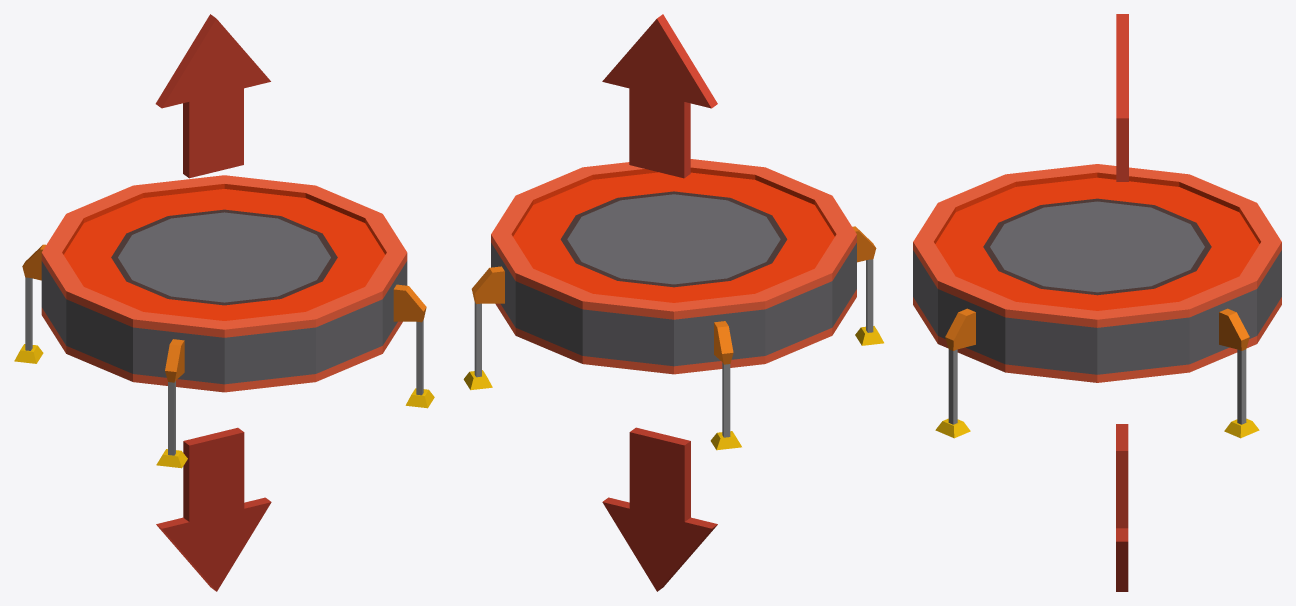
File: Vertical_Platform_Genesis.glb
The picture shows the model from 3 angles, left to right: view 1: azimuth 30°, elevation 25°; view 2: azimuth 150°, elevation 25°; view 3: azimuth 270°, elevation 25°; orthographic projection.
Visible parts, largest first — view 1: Genesis_PlatformDrone, Plane, Plane.001; view 2: Genesis_PlatformDrone, Plane, Plane.001; view 3: Genesis_PlatformDrone, Plane, Plane.001.
Part boxes in pixels (x1=…): Genesis_PlatformDrone: x1=14, y1=175, x2=434, y2=468; Plane: x1=156, y1=427, x2=271, y2=591; Plane.001: x1=155, y1=14, x2=270, y2=178; Genesis_PlatformDrone: x1=463, y1=159, x2=883, y2=450; Plane: x1=602, y1=427, x2=717, y2=591; Plane.001: x1=602, y1=14, x2=717, y2=178; Genesis_PlatformDrone: x1=913, y1=164, x2=1281, y2=438; Plane: x1=1116, y1=424, x2=1128, y2=591; Plane.001: x1=1116, y1=14, x2=1128, y2=181.
Size of the model in its own units: 2 by 3.46 by 2.
1 material, 1 textured.
